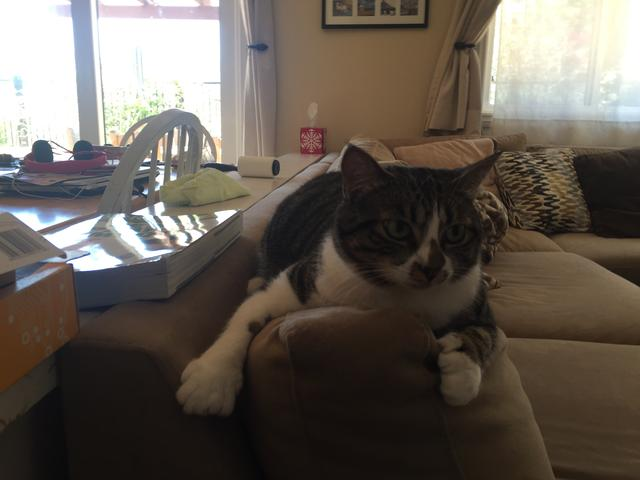playdoh: (175, 142, 508, 422)
